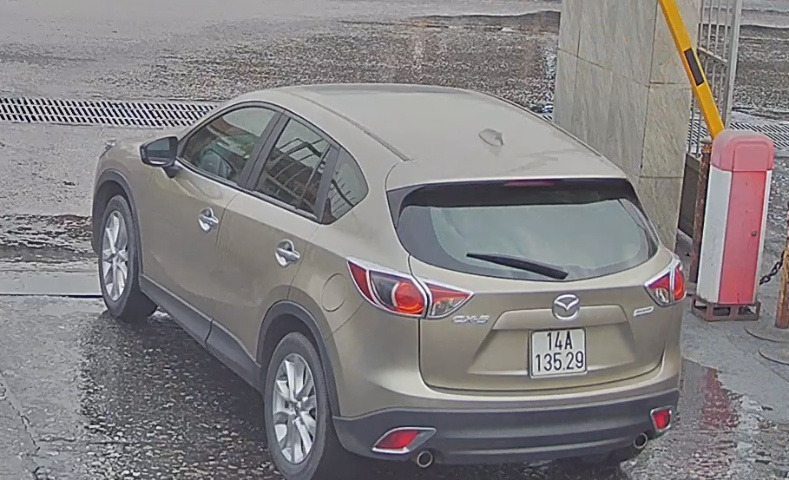vehicle plate: (526, 323, 589, 377)
